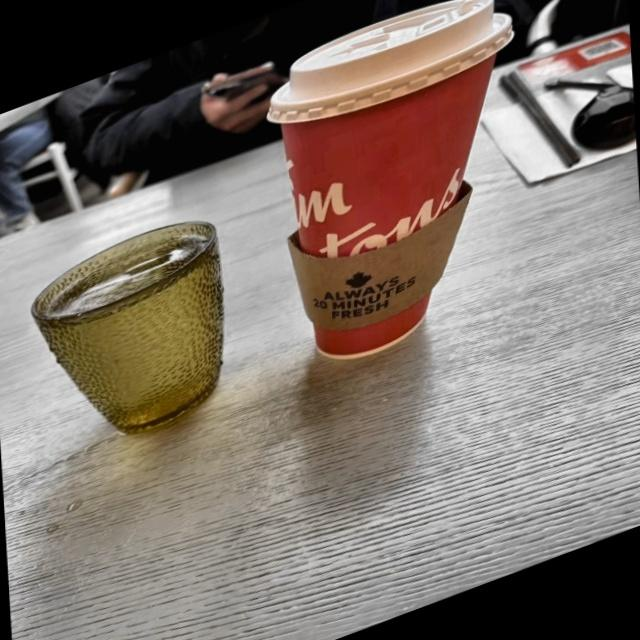Timmies: (249, 0, 537, 398)
